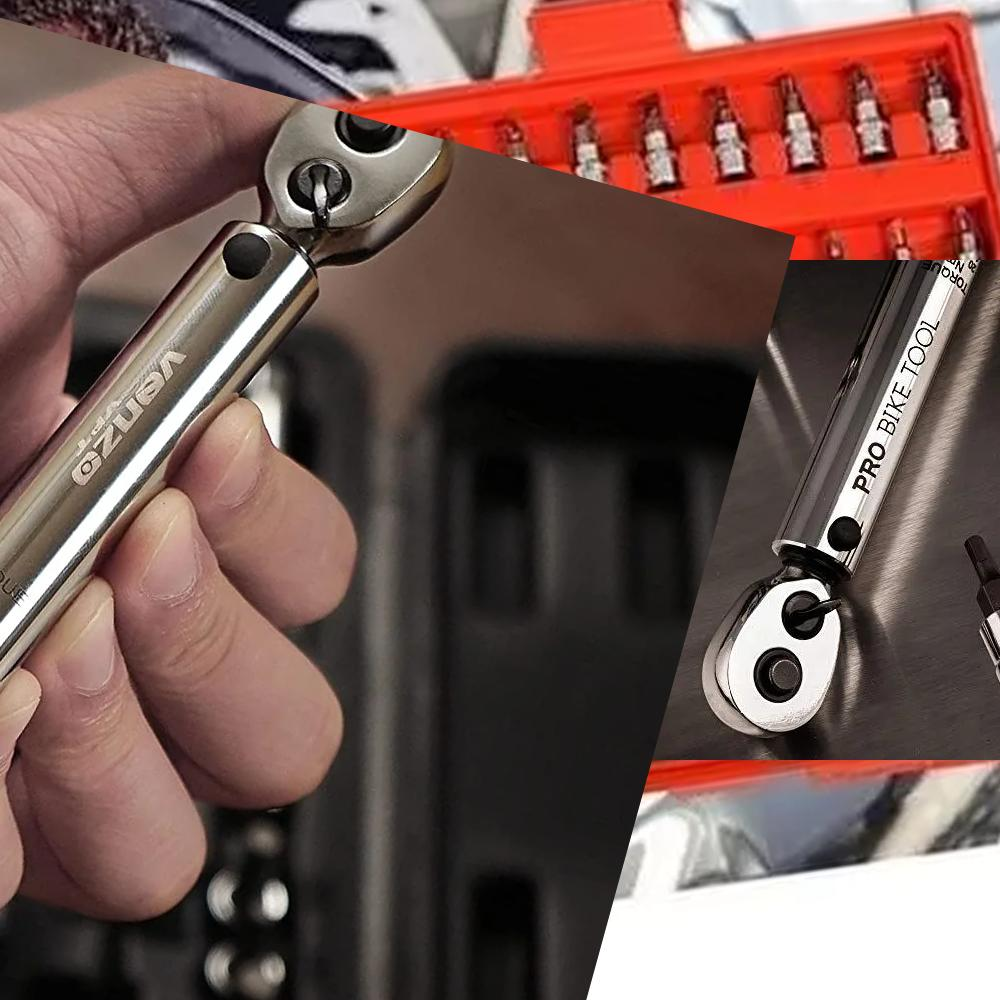Tool: (241, 91, 446, 256), (707, 557, 863, 752)
